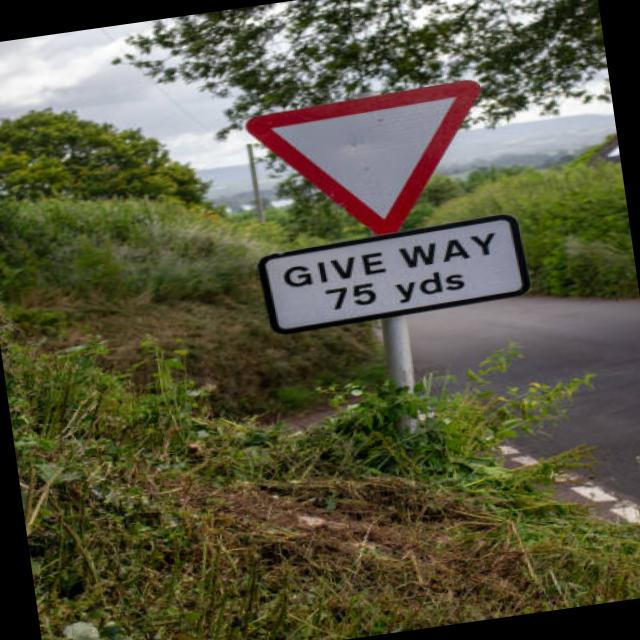give_way: (230, 66, 501, 256)
